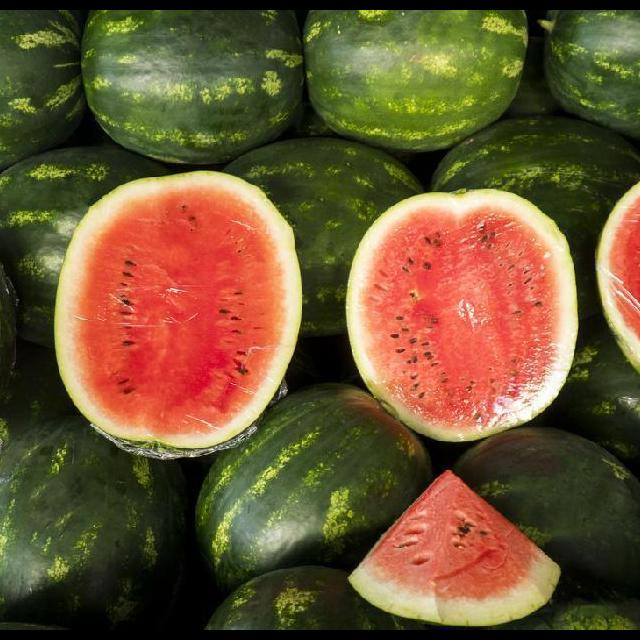watermelon: (54, 171, 303, 460), (344, 188, 578, 442), (217, 132, 430, 382), (193, 382, 434, 592), (423, 115, 640, 302), (0, 416, 180, 630), (86, 12, 307, 167), (448, 423, 640, 601), (346, 472, 562, 628), (0, 143, 162, 342), (304, 10, 529, 151), (541, 322, 640, 477), (206, 563, 425, 630), (0, 10, 88, 172), (543, 10, 640, 143), (509, 601, 640, 630)
